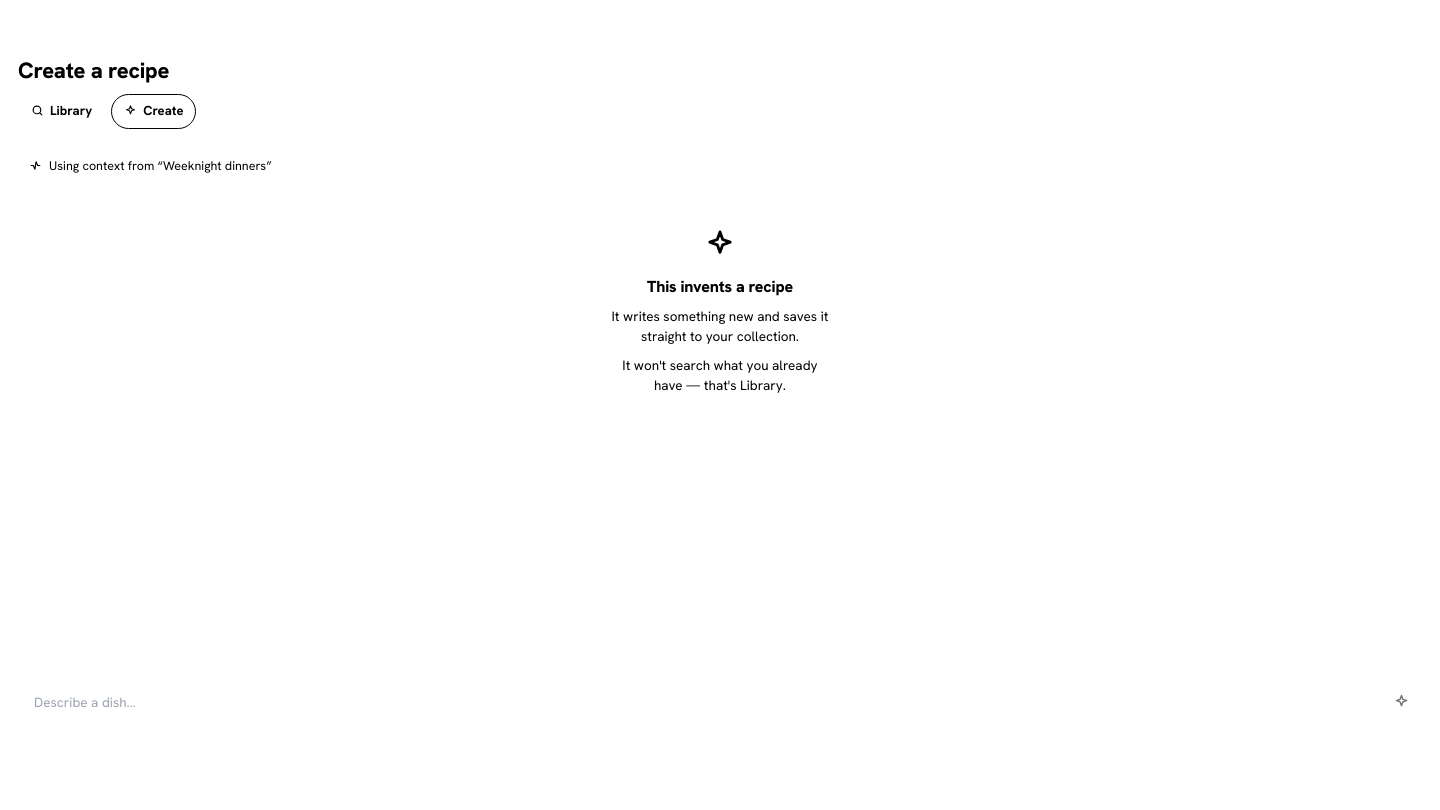
Scenario: Chat — Create mode › sends the prompt with the active conversation and links to the saved recipe
Type "a 20-minute noodle bowl" into the field named "Describe the recipe to generate". click: (694, 702)
box: top-left (18, 680), bottom-right (1371, 724)
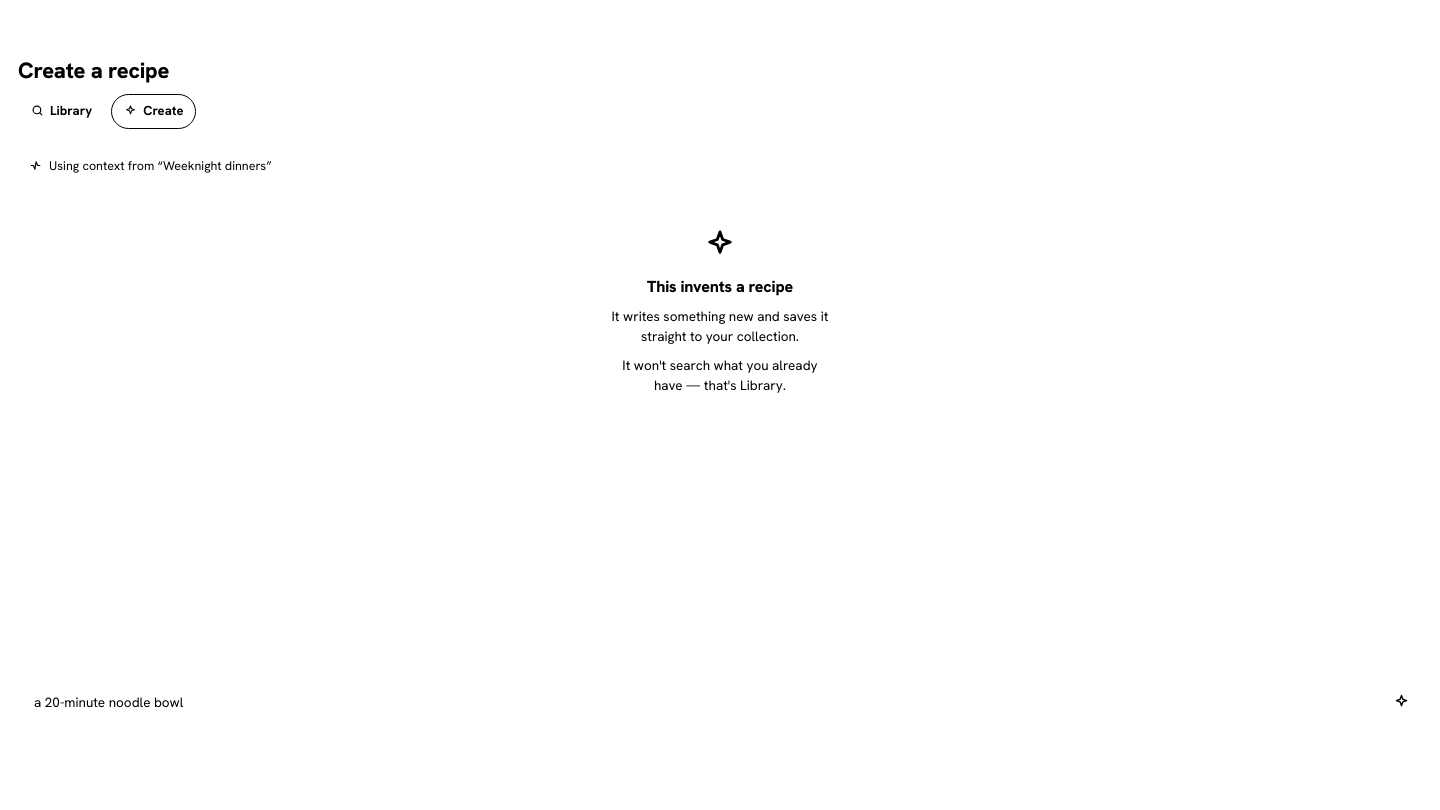
Click the button named "Generate recipe". click: (1401, 702)
box: top-left (1380, 681), bottom-right (1422, 723)
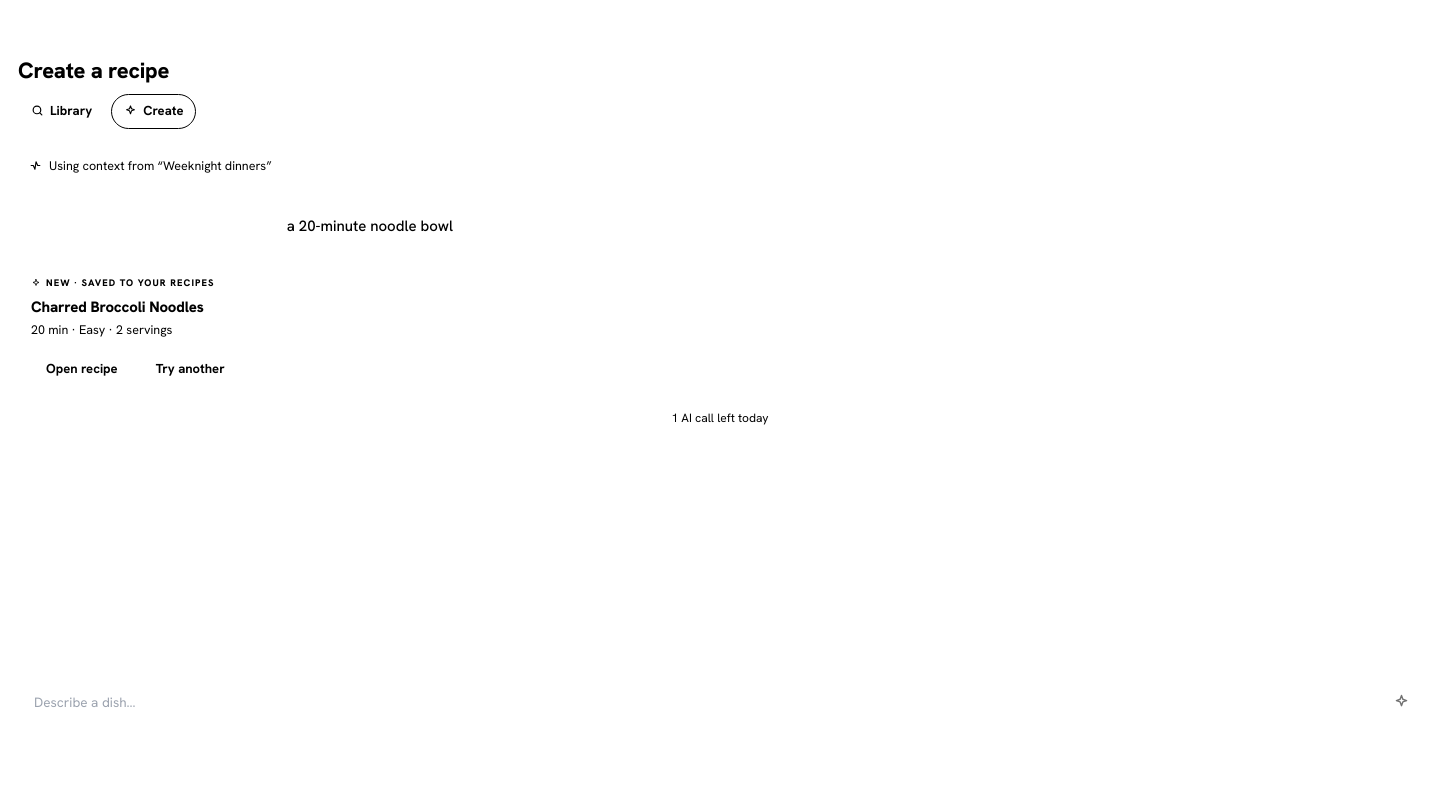
expect the text "Charred Broccoli Noodles" is shown: met, box top-left (31, 297), bottom-right (204, 317)
expect the text "1 AI call left today" is shown: met, box top-left (671, 410), bottom-right (769, 426)
